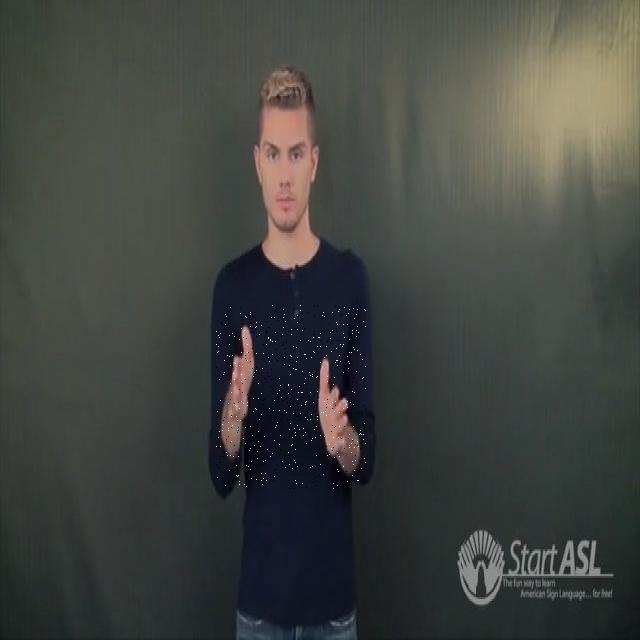manager: (216, 305, 366, 489)
